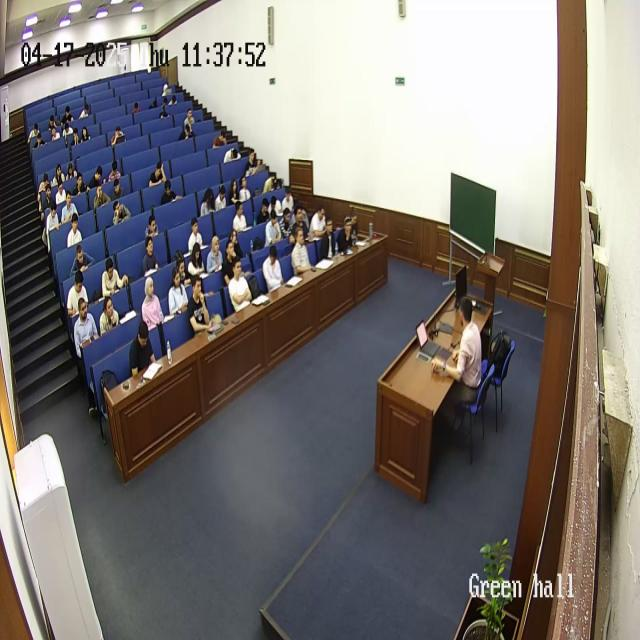person: (431, 296, 483, 408), (129, 319, 157, 379), (73, 296, 99, 360), (227, 255, 253, 313), (187, 274, 212, 332), (140, 276, 165, 331), (262, 243, 286, 293), (167, 266, 190, 317), (101, 256, 127, 301), (66, 271, 89, 321), (291, 228, 313, 276), (98, 292, 120, 337), (222, 238, 242, 284), (318, 218, 338, 263), (69, 243, 91, 281), (336, 214, 356, 255), (45, 203, 61, 253), (142, 235, 160, 278), (206, 233, 223, 276), (187, 241, 206, 279), (61, 191, 80, 228), (66, 212, 84, 250), (265, 208, 283, 245), (187, 216, 204, 255), (309, 204, 327, 240), (144, 213, 162, 248), (256, 192, 274, 227), (242, 144, 262, 174), (160, 180, 181, 207), (233, 201, 249, 236), (39, 178, 53, 218), (112, 197, 130, 227), (200, 185, 217, 216), (149, 159, 167, 188), (93, 184, 110, 214), (73, 171, 89, 200), (281, 185, 295, 218), (227, 173, 240, 208), (215, 180, 229, 212), (294, 207, 308, 239), (260, 176, 280, 198), (107, 157, 123, 184), (54, 179, 68, 209), (89, 165, 105, 191), (238, 175, 252, 203), (224, 143, 242, 164), (181, 114, 195, 140), (212, 127, 228, 149), (80, 102, 96, 124), (173, 256, 190, 276), (112, 178, 126, 202), (112, 125, 126, 148), (48, 125, 63, 146), (280, 201, 291, 228), (63, 100, 75, 124), (161, 77, 172, 99), (52, 162, 64, 181), (183, 108, 195, 126), (34, 133, 45, 152), (64, 160, 76, 177), (28, 121, 40, 137), (71, 130, 81, 149), (39, 173, 50, 189), (61, 124, 74, 137), (84, 126, 92, 146), (45, 114, 56, 128), (150, 96, 157, 112), (132, 102, 142, 109)
